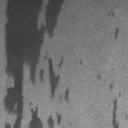red iron: (4, 0, 66, 128), (29, 107, 62, 128), (112, 92, 121, 128), (114, 27, 119, 39), (66, 88, 69, 103), (108, 12, 114, 18), (110, 84, 112, 90), (126, 114, 128, 120), (98, 75, 100, 80)
